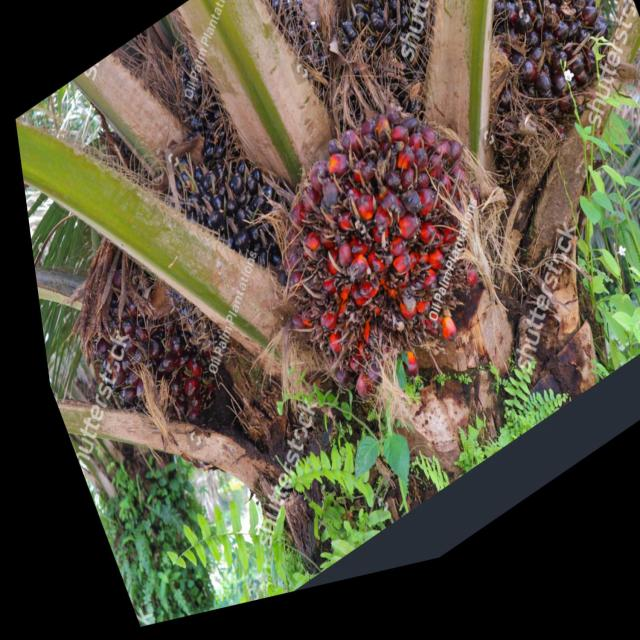Ripefruit: (233, 71, 526, 464)
